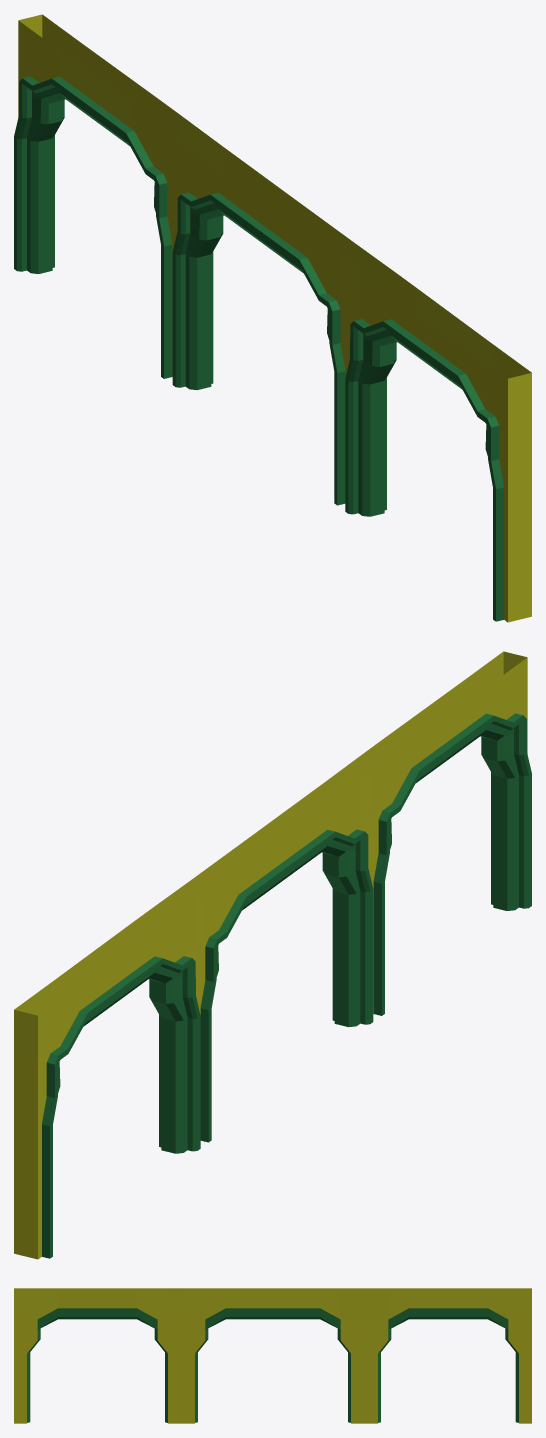
File: arch_door.fbx
3 views of the same model, one above another, from view 1: azimuth 30°, elevation 25°; view 2: azimuth 150°, elevation 25°; view 3: azimuth 270°, elevation 25° (orthographic). The views are drawn at different scales.
Parts seen in each view (by area): view 1: Hangar.003; view 2: Hangar.003; view 3: Hangar.003.
Part boxes in pixels (box(x1,y1,x2,y2)): Hangar.003: box(14, 14, 531, 622); Hangar.003: box(14, 651, 531, 1259); Hangar.003: box(14, 1288, 531, 1423).
Bounding box in the file's own units: 12.05 × 85.23 × 310.
